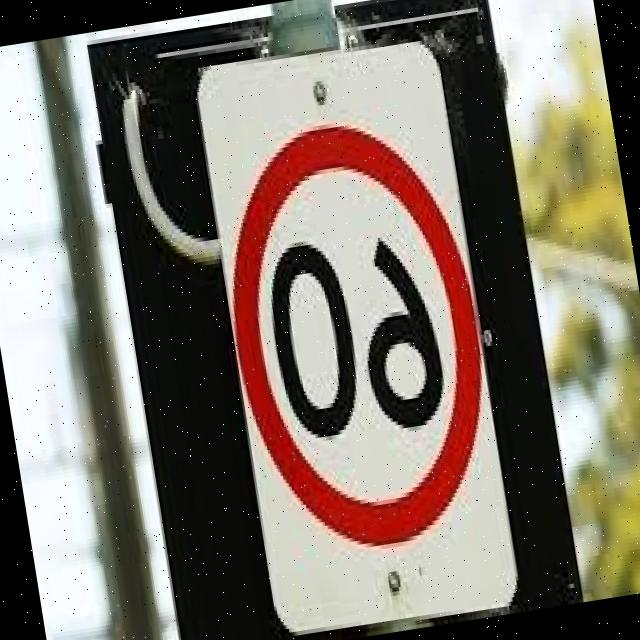speed_limit_60: (207, 102, 506, 568)
